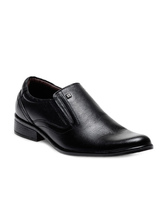shoes: (13, 75, 158, 158)
